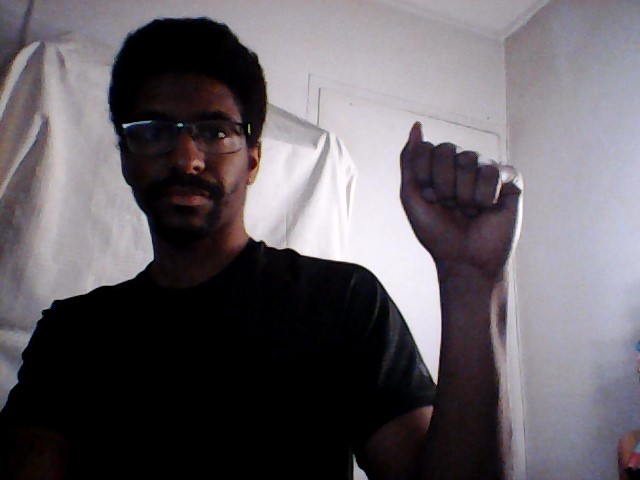a: (396, 118, 525, 277)
